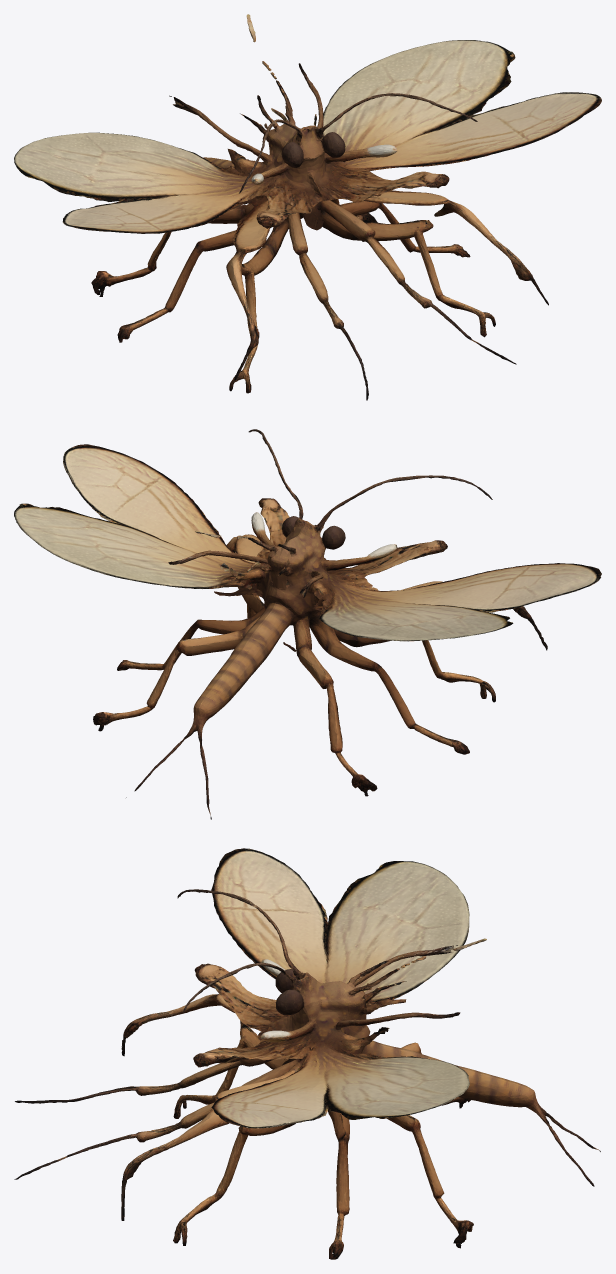
3 renders of one model, top to bottom at view 1: azimuth 30°, elevation 25°; view 2: azimuth 150°, elevation 25°; view 3: azimuth 270°, elevation 25°, orthographic. The views are drawn at different scales.
Visible parts, largest first — view 1: bounded-antenna-study; view 2: bounded-antenna-study; view 3: bounded-antenna-study.
Part boxes in pixels (box(x1,y1,x2,y2)): bounded-antenna-study: box(14, 14, 601, 400); bounded-antenna-study: box(14, 429, 601, 819); bounded-antenna-study: box(14, 848, 600, 1259).
Size of the model in its own units: 0.3488 by 0.1496 by 0.3111.
1 material, 1 textured.
